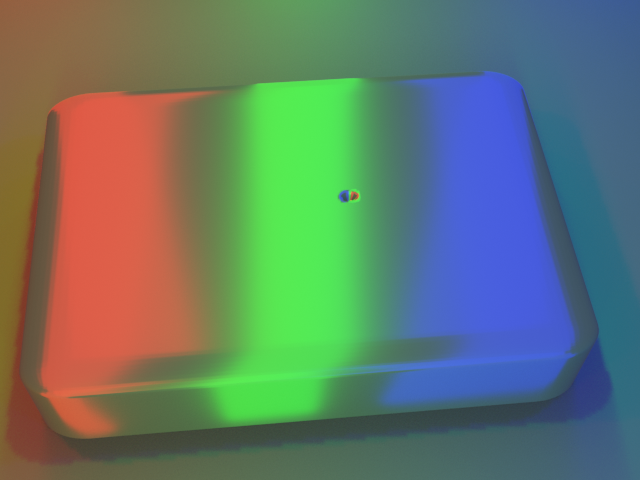dent: (329, 175, 372, 220)
